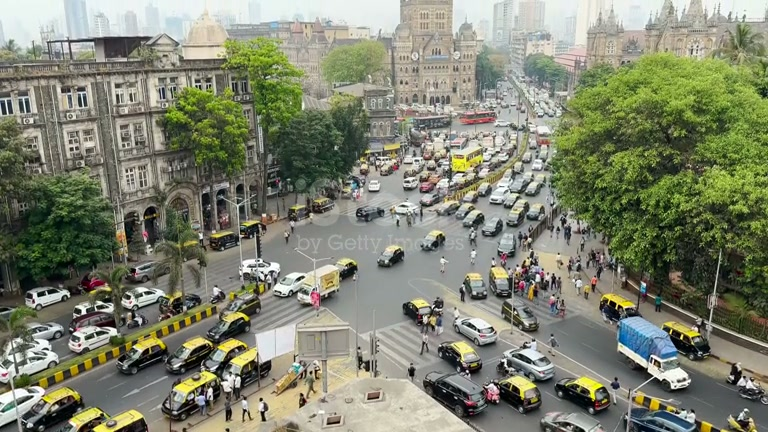car: (626, 388, 699, 432), (161, 369, 222, 420), (18, 385, 84, 431), (424, 371, 487, 418), (554, 373, 614, 415), (491, 374, 543, 414), (165, 335, 216, 375), (661, 320, 710, 361), (117, 336, 167, 376), (0, 386, 46, 429), (502, 347, 555, 382), (201, 338, 250, 375), (437, 340, 483, 374), (539, 410, 607, 432), (500, 298, 540, 333), (453, 315, 498, 346), (205, 312, 250, 343), (92, 408, 150, 432), (67, 325, 113, 355), (598, 291, 639, 323), (60, 405, 108, 431), (122, 286, 168, 311), (25, 286, 71, 310), (272, 272, 308, 298), (24, 321, 66, 342), (377, 245, 405, 268)
pedestrian: (727, 361, 742, 385), (258, 399, 268, 422), (241, 397, 250, 422)
truck: (616, 314, 691, 392)
